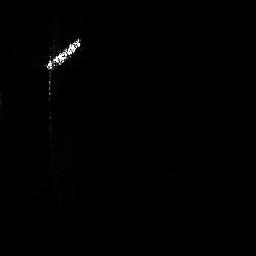ship: (42, 34, 85, 73)
